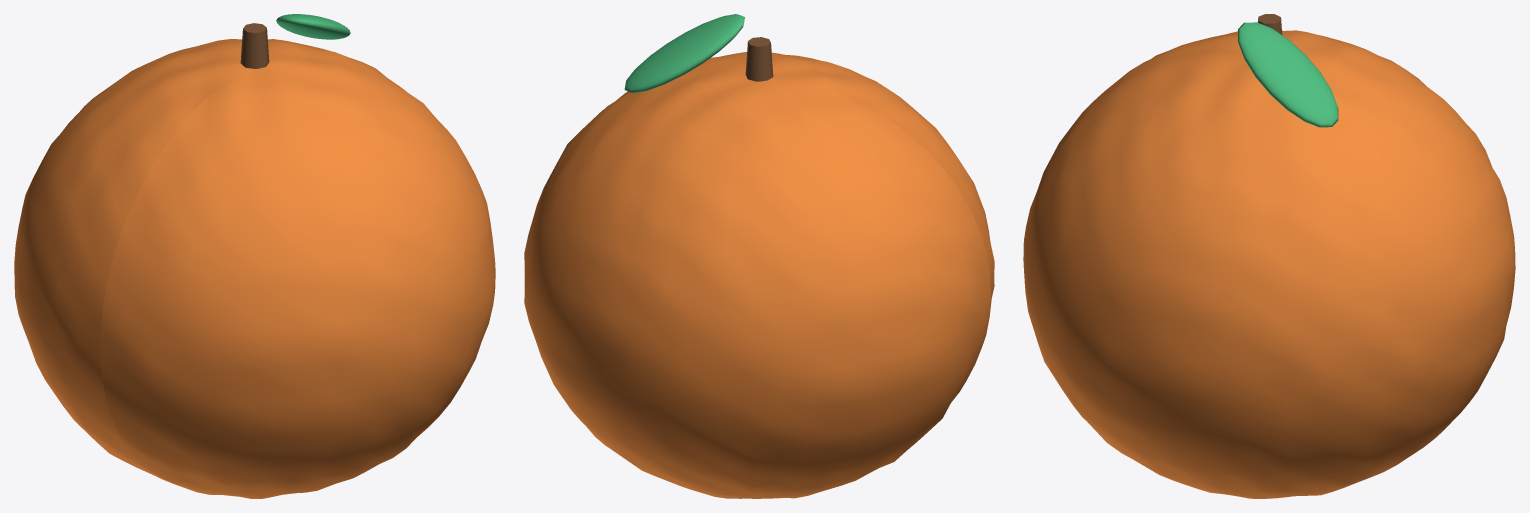
Rendered from orange.glb.
3 renders of one model, left to right at view 1: azimuth 30°, elevation 25°; view 2: azimuth 150°, elevation 25°; view 3: azimuth 270°, elevation 25°, orthographic. The views are drawn at different scales.
Visible parts, largest first — view 1: orange; view 2: orange; view 3: orange.
Part boxes in pixels (x1,y1,x2,y2): orange: (14,14,495,498); orange: (524,14,994,498); orange: (1023,14,1515,498).
Size of the model in its own units: 2 by 2.09 by 2.
